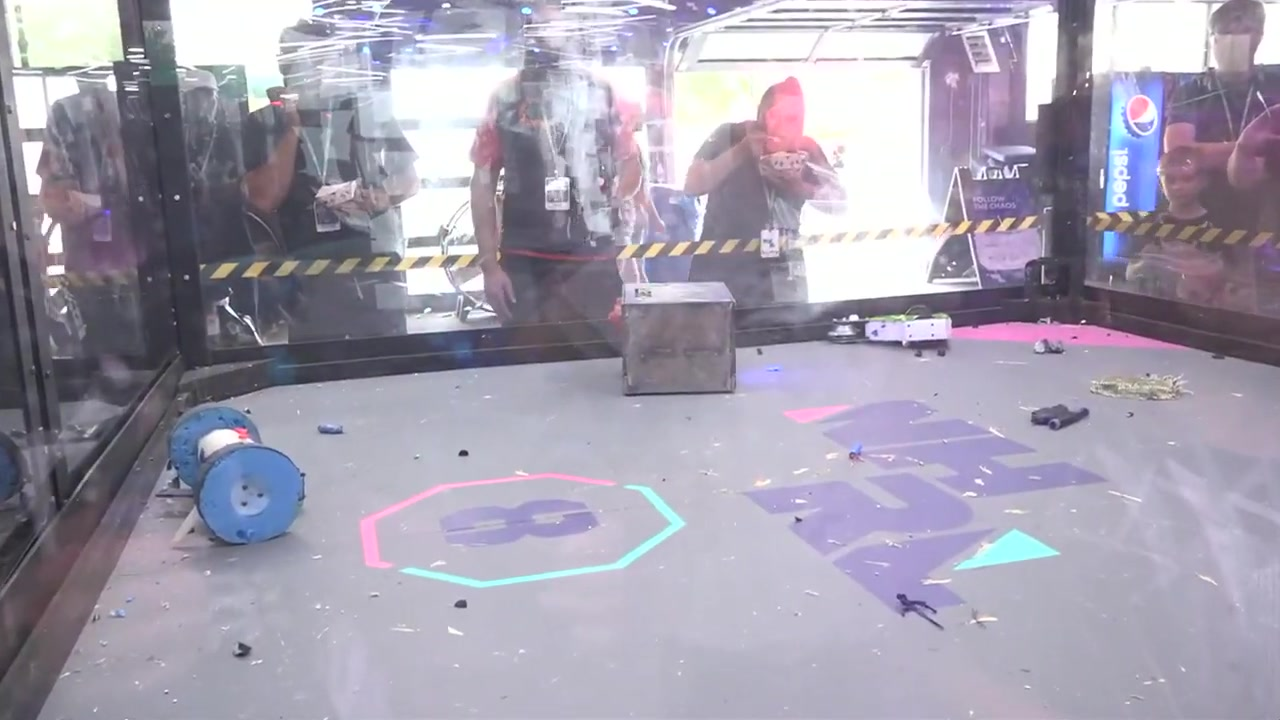combatbot: (166, 411, 309, 548), (825, 311, 952, 354)
debris: (1091, 370, 1190, 403), (1033, 334, 1066, 358), (318, 420, 344, 437)
housebot: (616, 280, 737, 401)
minibot: (1027, 402, 1092, 431)
